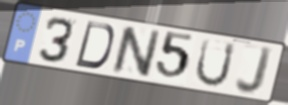3: (38, 16, 76, 64)
5: (154, 30, 197, 84)
D: (73, 20, 116, 71)
J: (234, 45, 275, 97)
N: (110, 24, 163, 79)
U: (193, 37, 238, 89)
